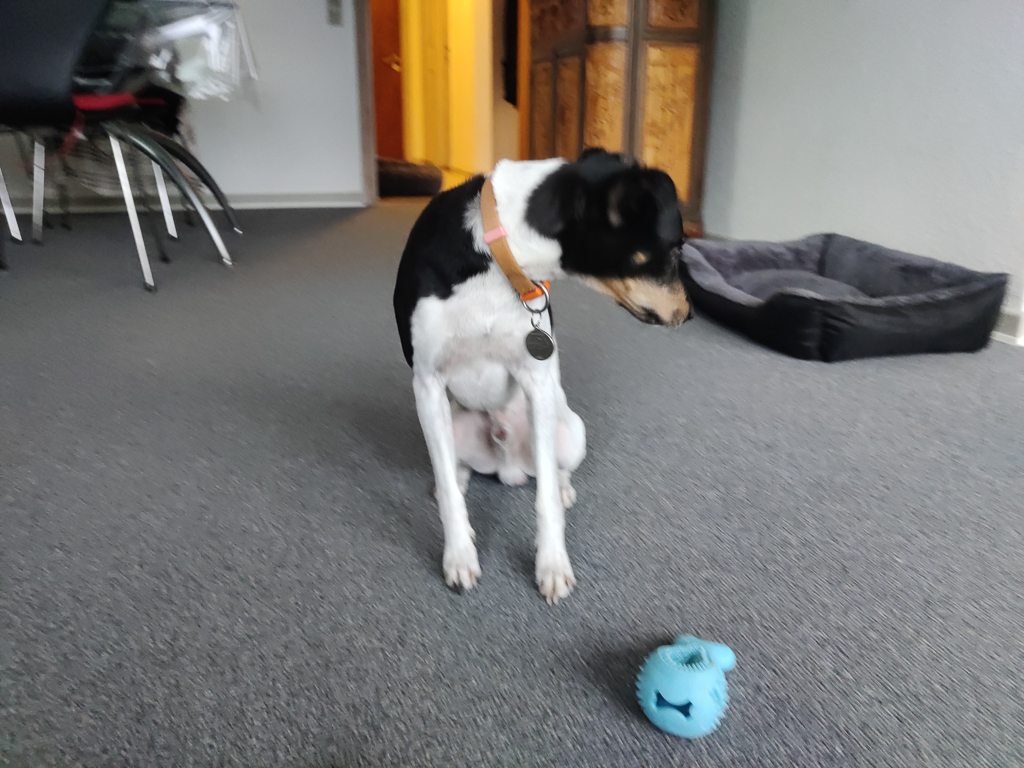Dog: (362, 127, 735, 622)
